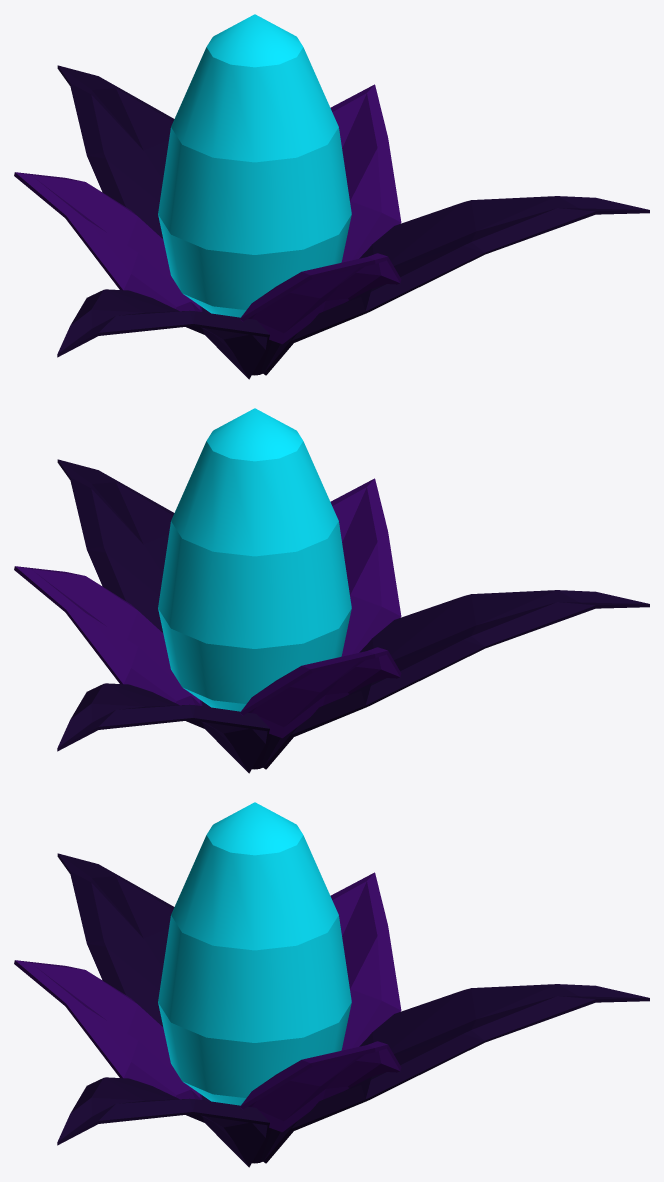
Rendered from GiantBulbPlant.fbx.
The picture shows the model from 3 angles, top to bottom: view 1: azimuth 30°, elevation 25°; view 2: azimuth 150°, elevation 25°; view 3: azimuth 270°, elevation 25°; orthographic projection.
Parts seen in each view (by area): view 1: GiantBulbPlant; view 2: GiantBulbPlant; view 3: GiantBulbPlant.
Boxes of the visible parts, x1,y1,x2,y2 form: GiantBulbPlant: (14,14,649,379); GiantBulbPlant: (14,408,649,773); GiantBulbPlant: (14,802,649,1167).
Size of the model in its own units: 163 by 95.09 by 152.
